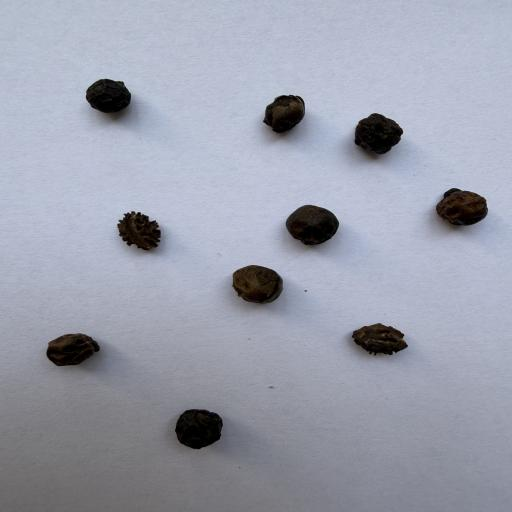Black_pepper: (429, 176, 495, 233), (165, 401, 237, 452), (275, 201, 343, 248), (224, 259, 288, 308), (352, 106, 409, 157), (256, 89, 316, 137), (79, 73, 141, 118), (43, 321, 100, 369)
papaya_seed: (348, 318, 419, 366), (114, 202, 170, 256)
